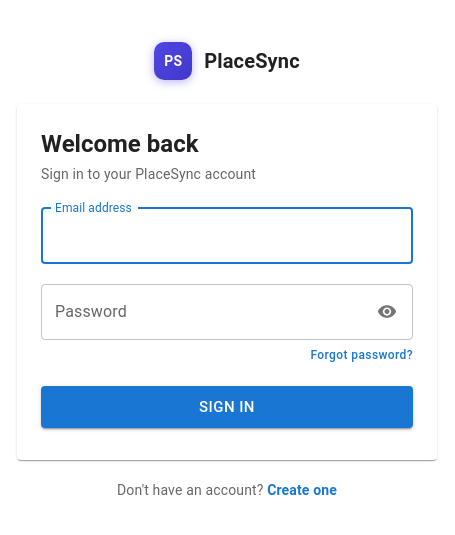
LoginPage › shows validation errors when form is submitted empty
The width and height of the screenshot is (455, 535).
Click the button "Sign in" at x=227, y=407, box [41,386,413,428]
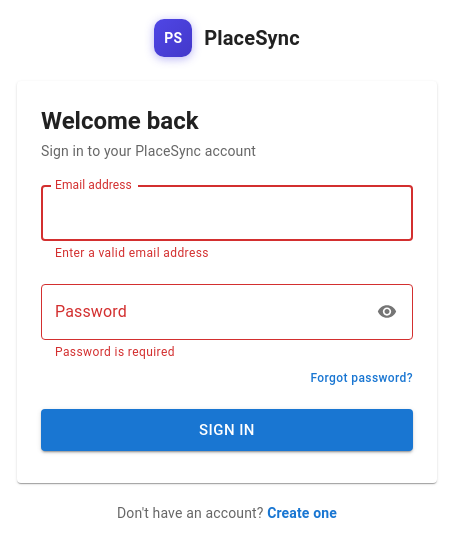
Check: the text "Enter a valid email address" is shown, box [55,246,209,260]
Check: the text "Password is required" is shown, box [55,345,175,359]
